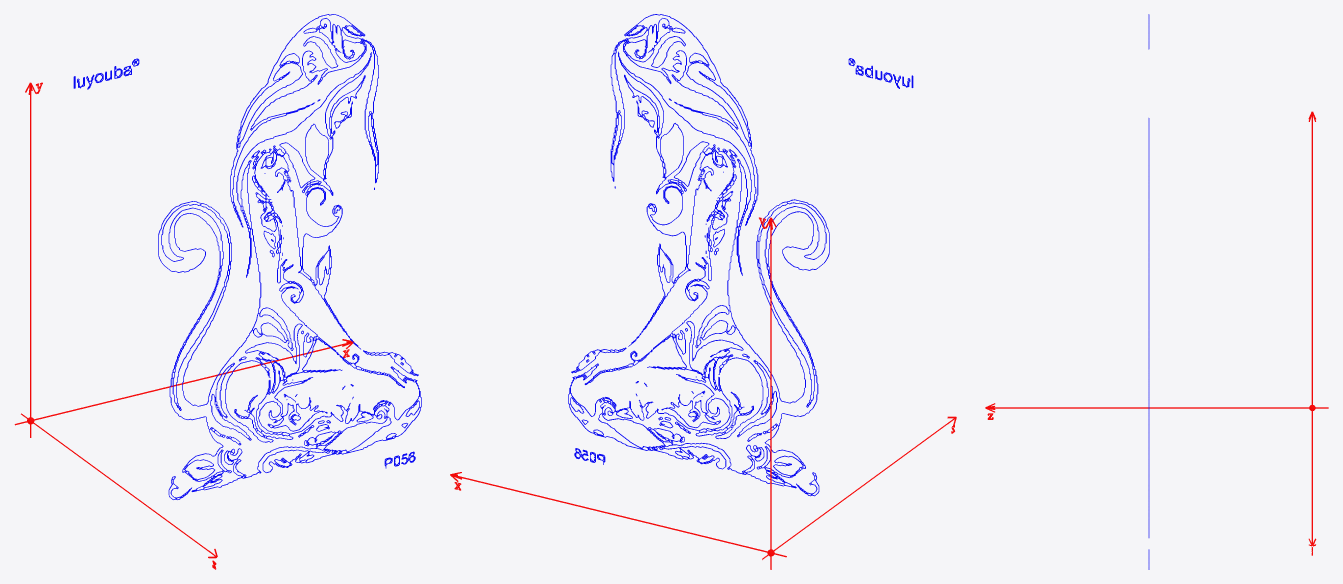
The picture shows the model from 3 angles, left to right: view 1: azimuth 30°, elevation 25°; view 2: azimuth 150°, elevation 25°; view 3: azimuth 270°, elevation 25°; orthographic projection. The views are drawn at different scales.
Bounding box in the file's own units: 1.16 × 1.39 × 1.05.
